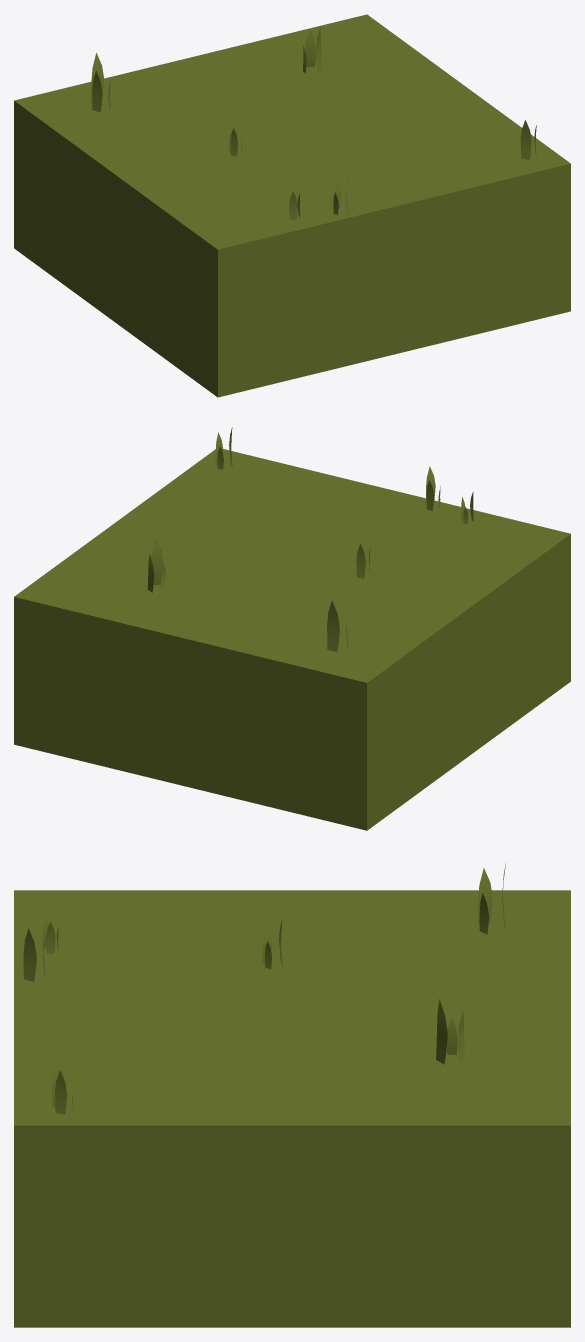
File: BlockGrass.glb
The picture shows the model from 3 angles, top to bottom: view 1: azimuth 30°, elevation 25°; view 2: azimuth 150°, elevation 25°; view 3: azimuth 270°, elevation 25°; orthographic projection. The views are drawn at different scales.
Visible parts, largest first — view 1: Block Grass 1; view 2: Block Grass 1; view 3: Block Grass 1.
Boxes of the visible parts, bbox=[...] form: Block Grass 1: bbox=[14, 14, 570, 397]; Block Grass 1: bbox=[14, 427, 570, 830]; Block Grass 1: bbox=[14, 863, 570, 1327].
Bounding box in the file's own units: 1 × 0.5387 × 1.
